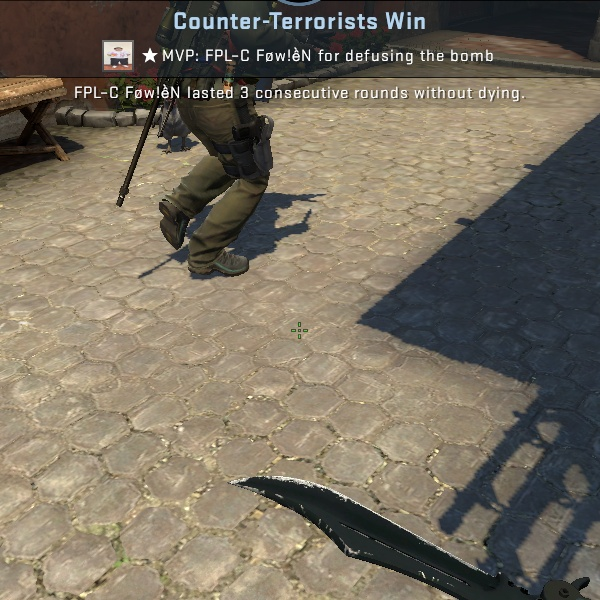ct_body: (111, 0, 325, 272)
